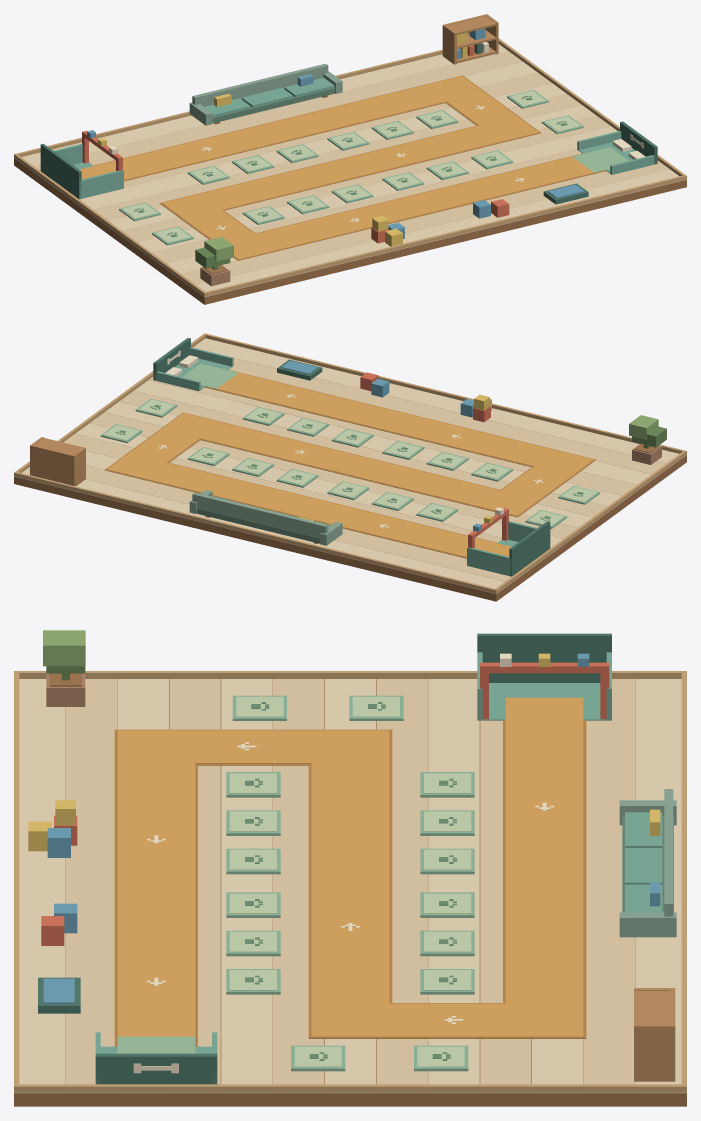
Rendered from Pupsters_Block_Playroom_Map.gltf.
3 renders of one model, top to bottom at view 1: azimuth 30°, elevation 25°; view 2: azimuth 150°, elevation 25°; view 3: azimuth 270°, elevation 25°, orthographic. The views are drawn at different scales.
Parts seen in each view (by area): view 1: Road05, Road06, Road07, FloorPlank01, MapBase, FloorPlank11, FloorPlank12, FloorPlank05, FloorPlank07, FloorPlank08, FloorPlank04, FloorPlank03 (+31 smaller); view 2: Road06, Road07, Road05, FloorPlank11, MapBase, FloorPlank12, FloorPlank07, FloorPlank00, FloorPlank05, FloorPlank08, FloorPlank01, FloorPlank09 (+31 smaller); view 3: Road05, Road06, Road07, FloorPlank11, FloorPlank01, FloorPlank12, FloorPlank05, FloorPlank07, MapBase, FloorPlank08, FloorPlank04, FloorPlank00 (+56 smaller).
Part boxes in pixels (left/top/right/bottom): Road05: left=145, top=85, right=445, bottom=169; Road06: left=200, top=125, right=500, bottom=209; Road07: left=255, top=166, right=555, bottom=250; FloorPlank01: left=28, top=51, right=522, bottom=178; MapBase: left=14, top=158, right=686, bottom=304; FloorPlank11: left=175, top=160, right=669, bottom=286; FloorPlank12: left=190, top=169, right=686, bottom=297; FloorPlank05: left=87, top=94, right=581, bottom=221; FloorPlank07: left=117, top=115, right=610, bottom=243; FloorPlank08: left=131, top=126, right=617, bottom=254; FloorPlank04: left=73, top=83, right=566, bottom=211; FloorPlank03: left=58, top=72, right=551, bottom=200; Road06: left=200, top=422, right=500, bottom=506; Road07: left=255, top=382, right=555, bottom=466; Road05: left=145, top=462, right=445, bottom=546; FloorPlank11: left=229, top=358, right=672, bottom=475; MapBase: left=14, top=455, right=686, bottom=601; FloorPlank12: left=193, top=338, right=686, bottom=465; FloorPlank07: left=119, top=391, right=613, bottom=518; FloorPlank00: left=14, top=467, right=510, bottom=594; FloorPlank05: left=90, top=412, right=583, bottom=540; FloorPlank08: left=134, top=380, right=628, bottom=507; FloorPlank01: left=86, top=465, right=525, bottom=583; FloorPlank09: left=148, top=377, right=642, bottom=497; Road05: left=505, top=763, right=583, bottom=1003; Road06: left=311, top=763, right=389, bottom=1003; Road07: left=117, top=763, right=195, bottom=1003; FloorPlank11: left=66, top=679, right=117, bottom=1093; FloorPlank01: left=583, top=679, right=634, bottom=1093; FloorPlank12: left=14, top=679, right=65, bottom=1093; FloorPlank05: left=376, top=679, right=427, bottom=1093; FloorPlank07: left=273, top=679, right=324, bottom=1093; MapBase: left=14, top=679, right=686, bottom=1106; FloorPlank08: left=221, top=679, right=272, bottom=1093; FloorPlank04: left=428, top=679, right=479, bottom=1093; FloorPlank00: left=635, top=679, right=686, bottom=1093.
Size of the model in its own units: 76 by 6.63 by 52.
